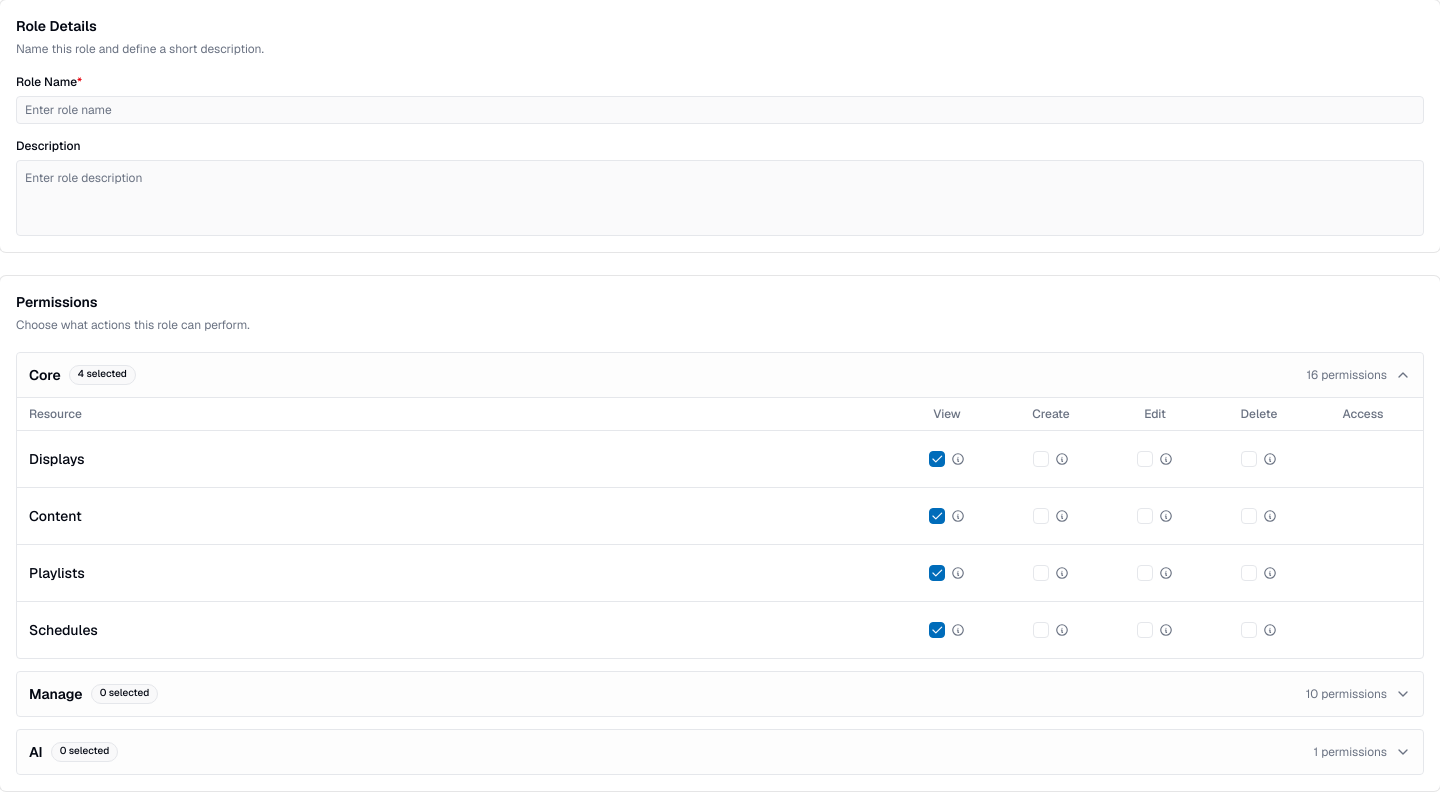
Test: RoleForm › keeps permission groups in sidebar order with compact resource rows
Click the button "Manage 0 selected 10 permissions".
click(56, 694)  # box left=17, top=672, right=1423, bottom=716
(page scrolled)
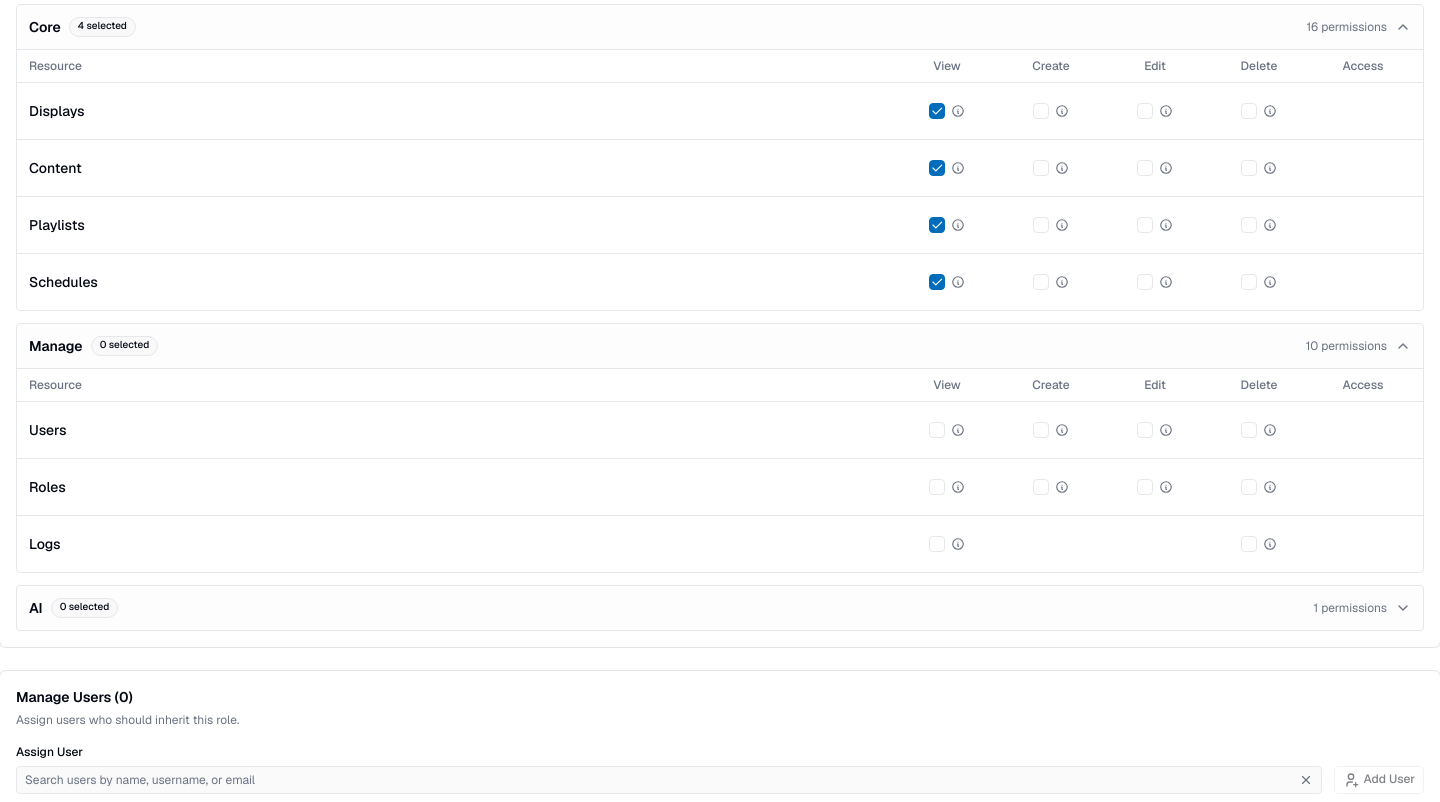
Check: the text "Users" is shown, box left=29, top=420, right=66, bottom=440
Check: the text "Roles" is shown, box left=29, top=476, right=66, bottom=496
Check: the text "Logs" is shown, box left=29, top=534, right=61, bottom=554
Click the button "AI 0 selected 1 permissions".
click(84, 608)  # box left=17, top=586, right=1423, bottom=630
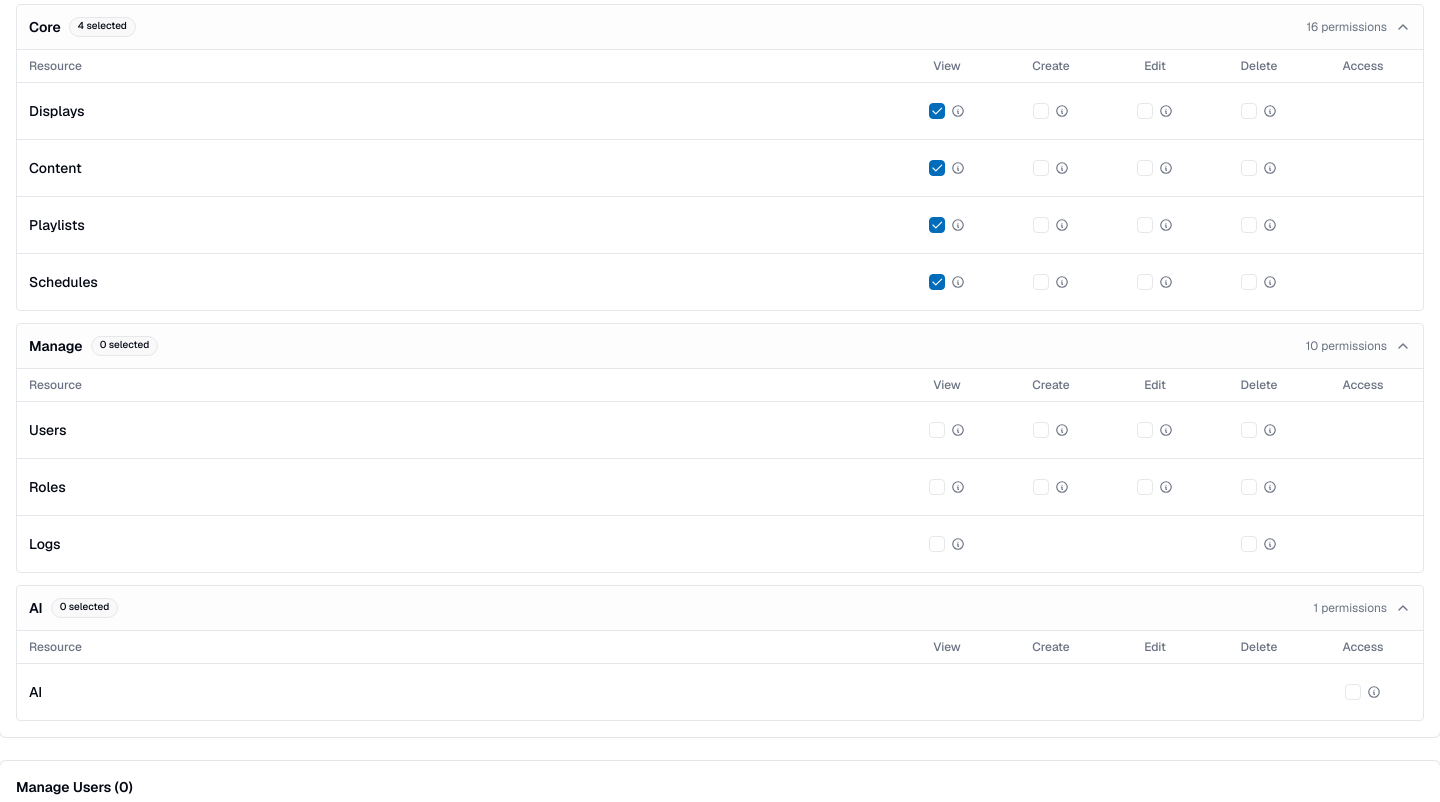
Check: the 1st text "AI" is shown, box left=29, top=598, right=43, bottom=618
Check: the checkbox named "Access AI" is shown, box left=1345, top=684, right=1361, bottom=700
